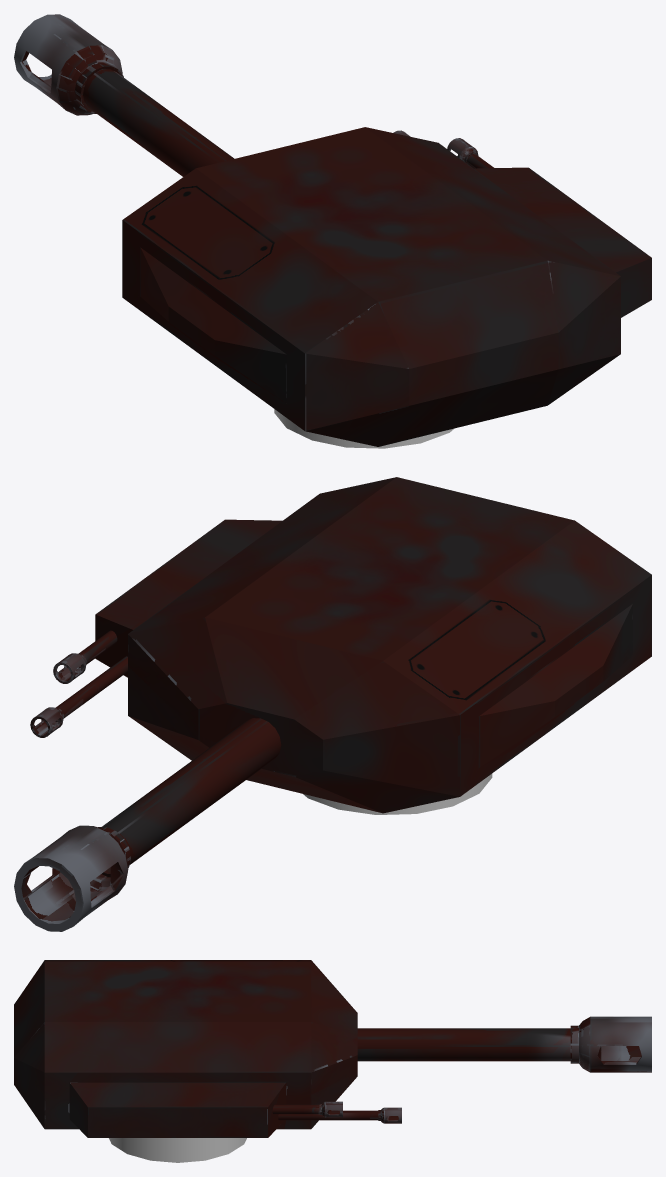
The model's file is tower1Cannon 1.fbx.
The picture shows the model from 3 angles, top to bottom: view 1: azimuth 30°, elevation 25°; view 2: azimuth 150°, elevation 25°; view 3: azimuth 270°, elevation 25°; orthographic projection. The views are drawn at different scales.
Parts seen in each view (by area): view 1: turretBody, turretBase; view 2: turretBody, turretBase; view 3: turretBody, turretBase.
Boxes of the visible parts, x1,y1,x2,y2 form: turretBody: (14, 14, 651, 446); turretBase: (274, 409, 454, 448); turretBody: (14, 477, 651, 931); turretBase: (303, 773, 492, 814); turretBody: (14, 960, 651, 1137); turretBase: (109, 1138, 246, 1162).
Size of the model in its own units: 173 by 80.05 by 328.
